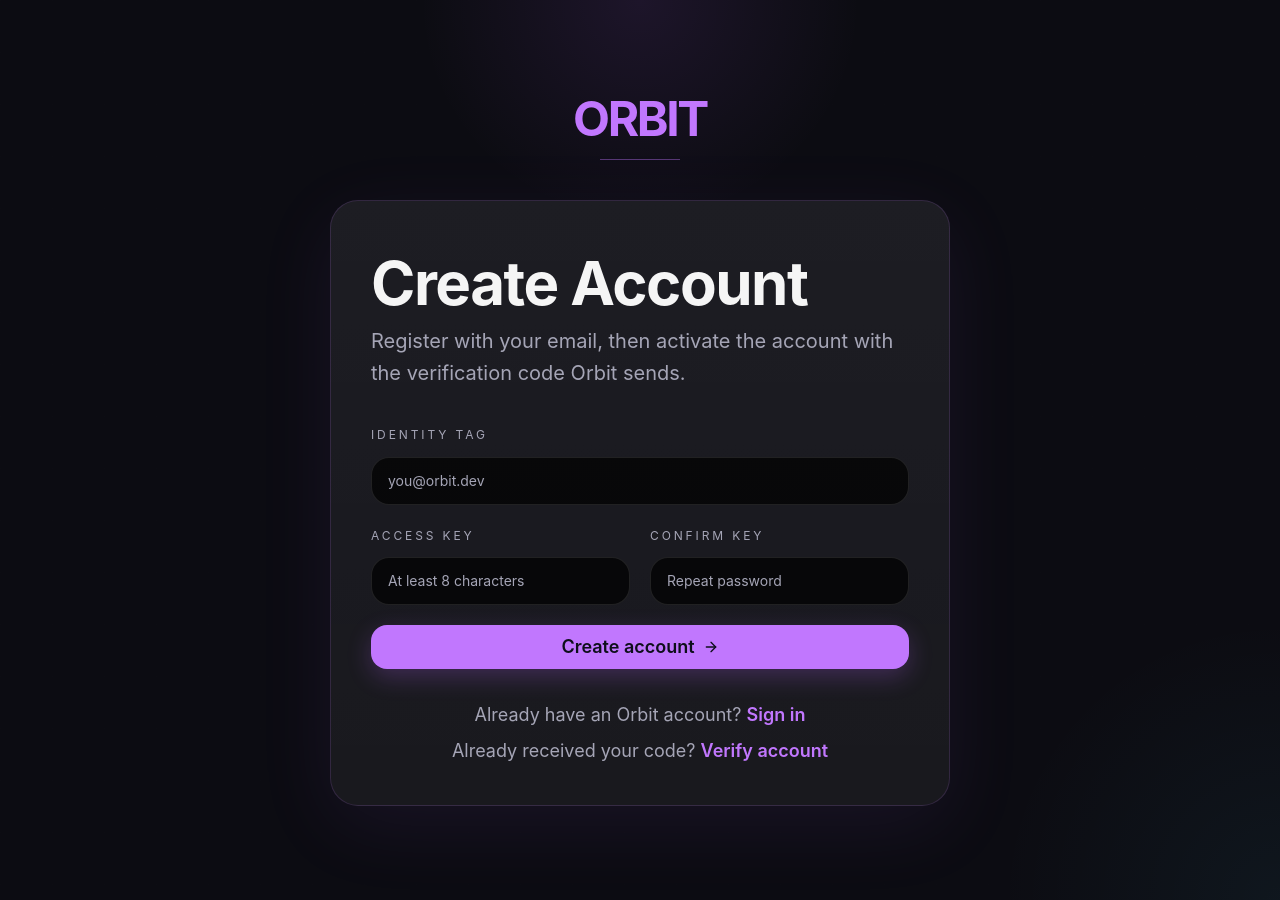
Scenario: RegisterPage › navigates to verify-account with the registered email on success
Type "new@orbit.dev" into the field named "email" at (640, 480), box x1=371 y1=456 x2=909 y2=504
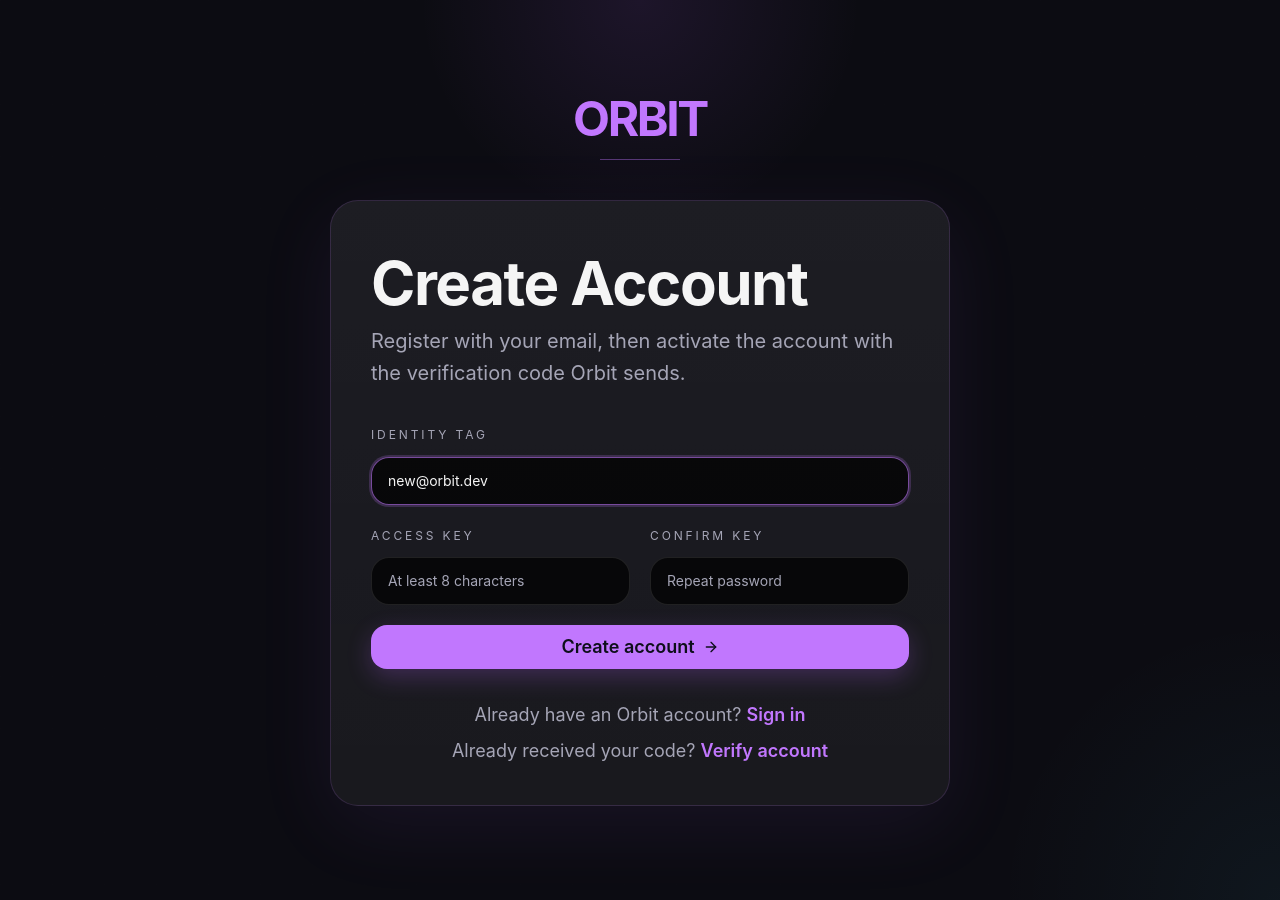
Type "secret123" into the password field named "password" at (500, 580), box x1=371 y1=556 x2=630 y2=604
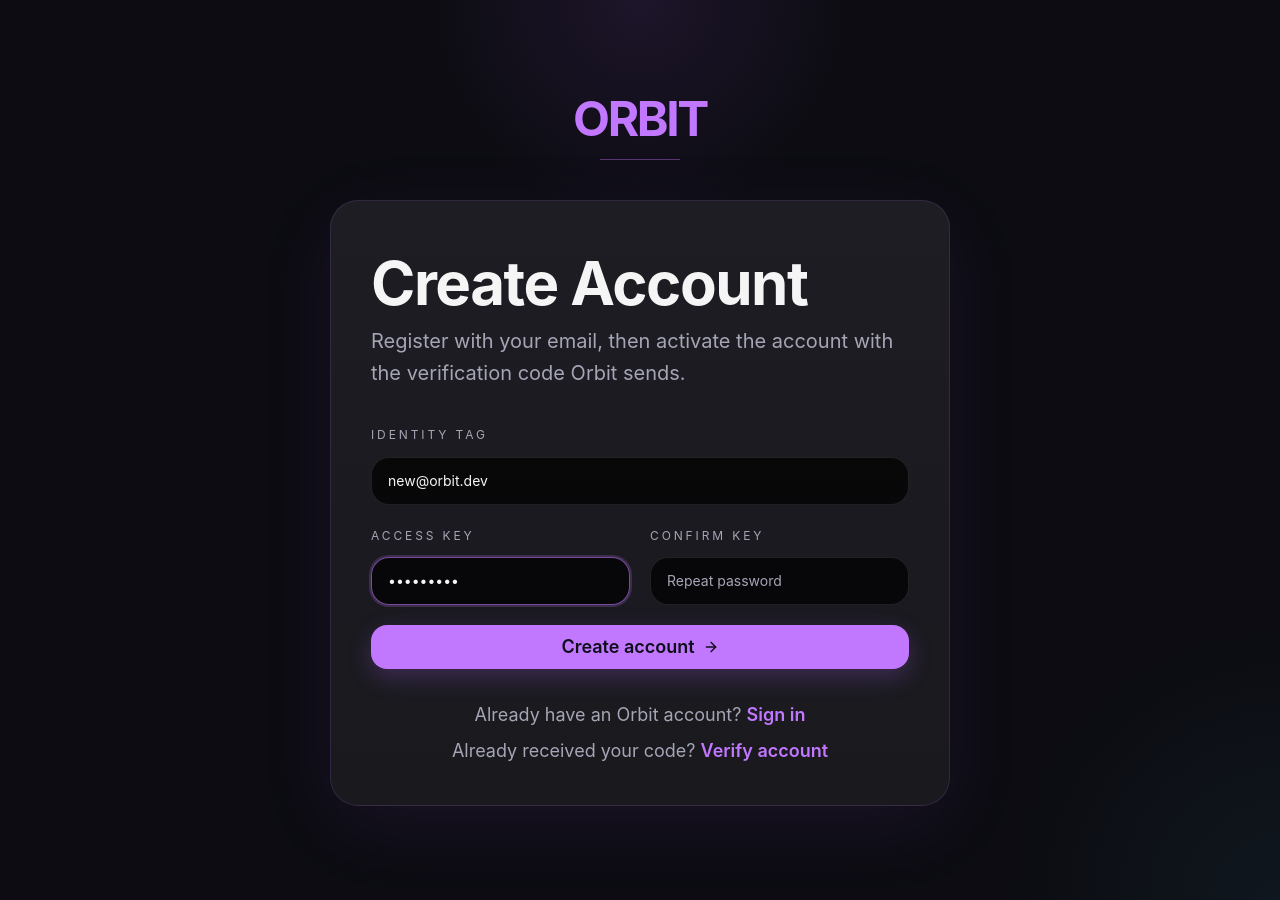
Type "secret123" into the password field named "confirm password" at (780, 580), box x1=650 y1=556 x2=909 y2=604
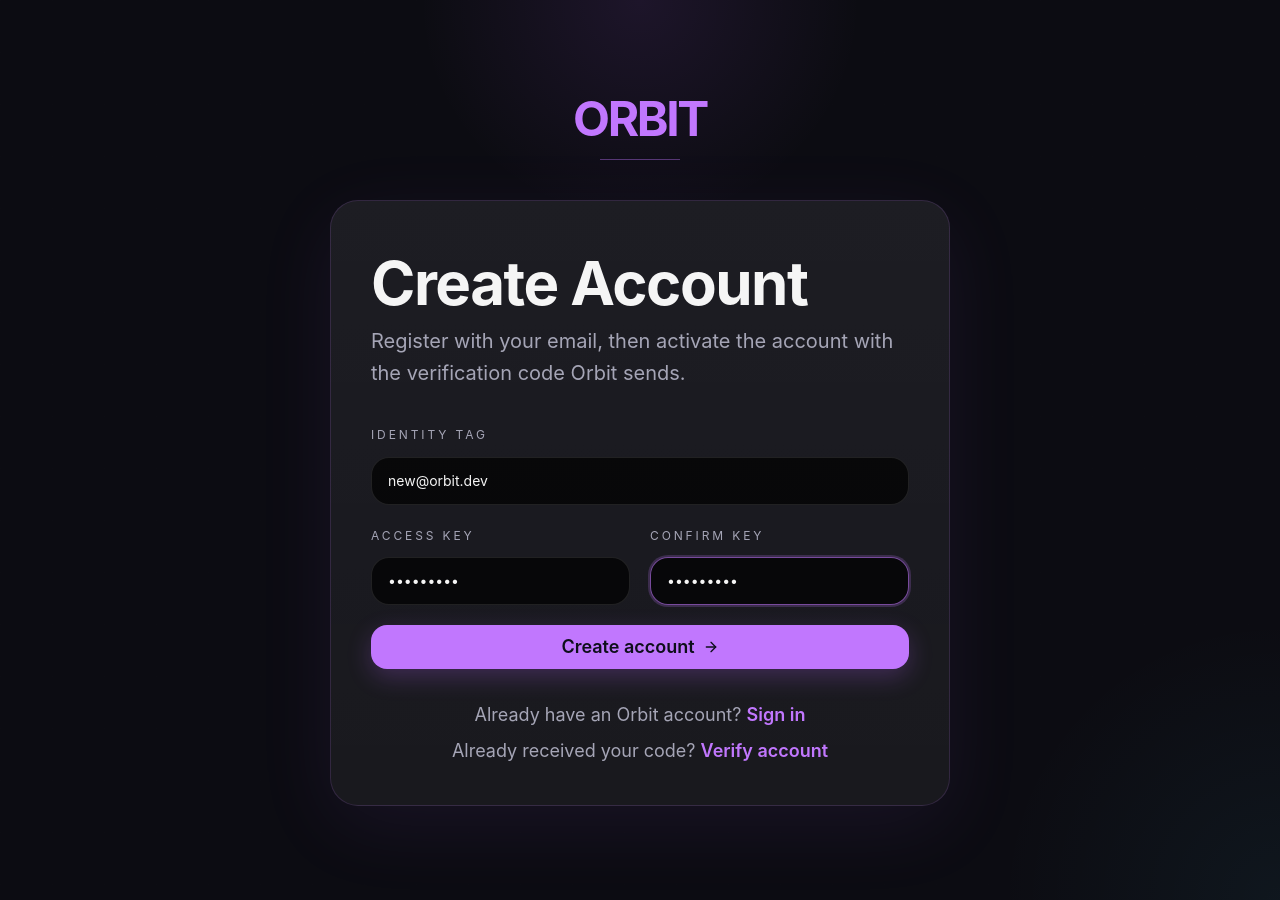
Click the button "Create account" at (640, 646), box x1=371 y1=624 x2=909 y2=668
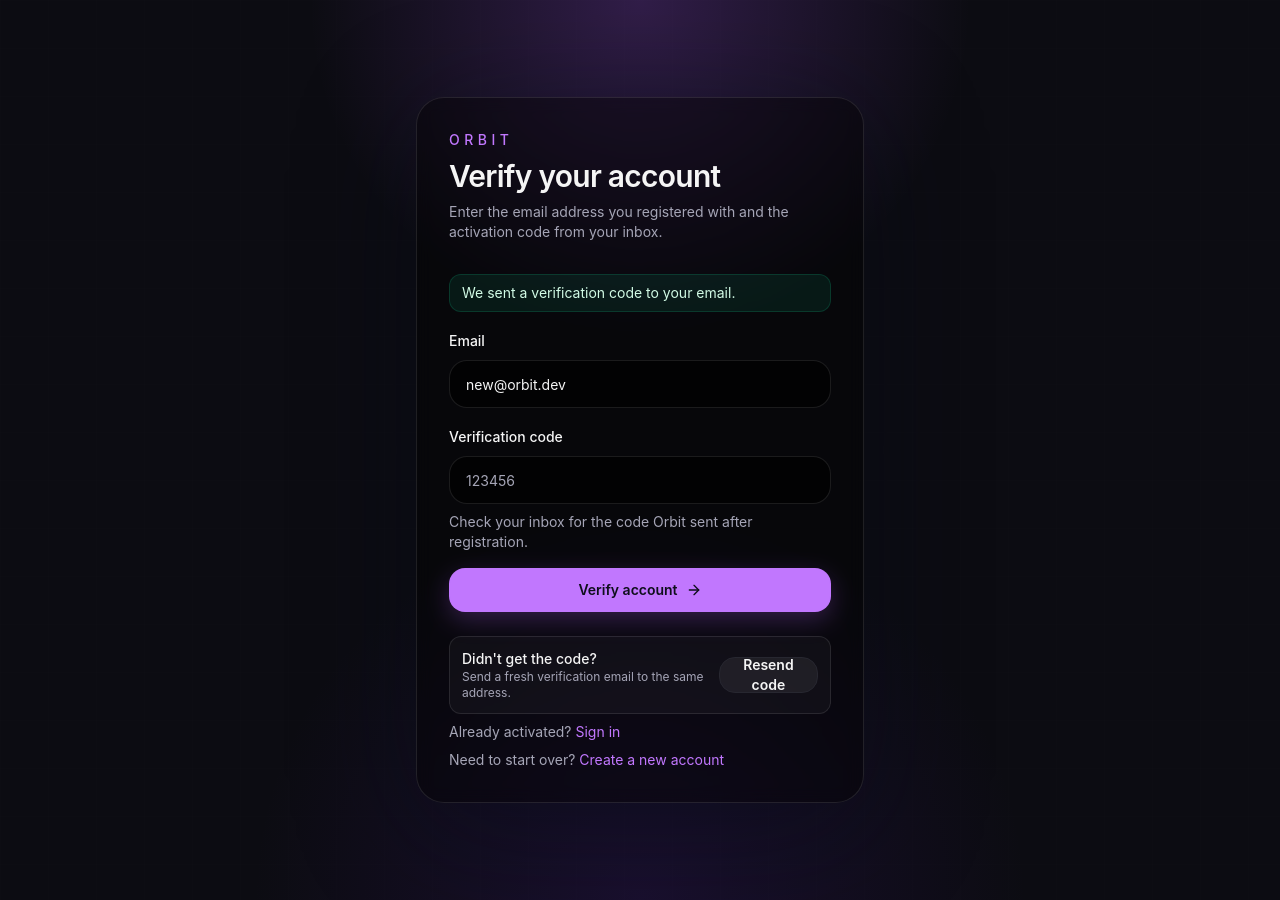
Expected: the heading "Verify your account" is shown, x1=449 y1=158 x2=720 y2=194
Expected: the field labelled "Email" holds "new@orbit.dev", x1=449 y1=360 x2=831 y2=408
Expected: the text "We sent a verification code to your email." is shown, x1=449 y1=274 x2=831 y2=312
